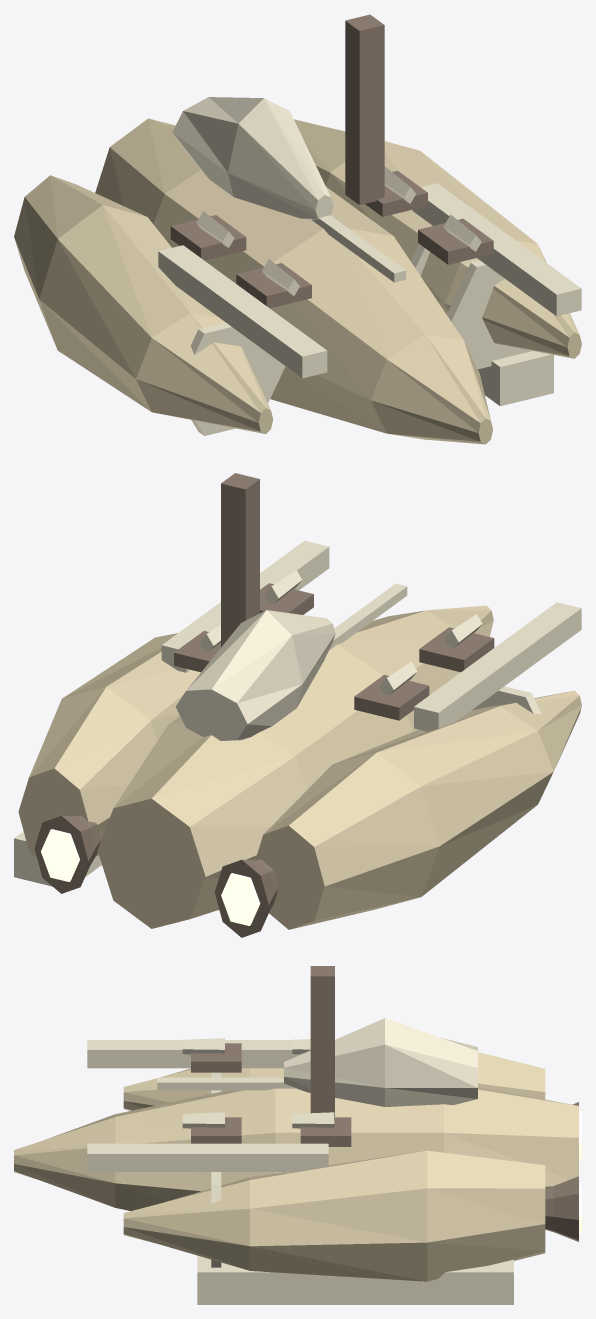
3 views of the same model, one above another, from view 1: azimuth 30°, elevation 25°; view 2: azimuth 150°, elevation 25°; view 3: azimuth 270°, elevation 25° (orthographic). The views are drawn at different scales.
Bounding box in the file's own units: 8.03 × 6.43 × 11.31.
